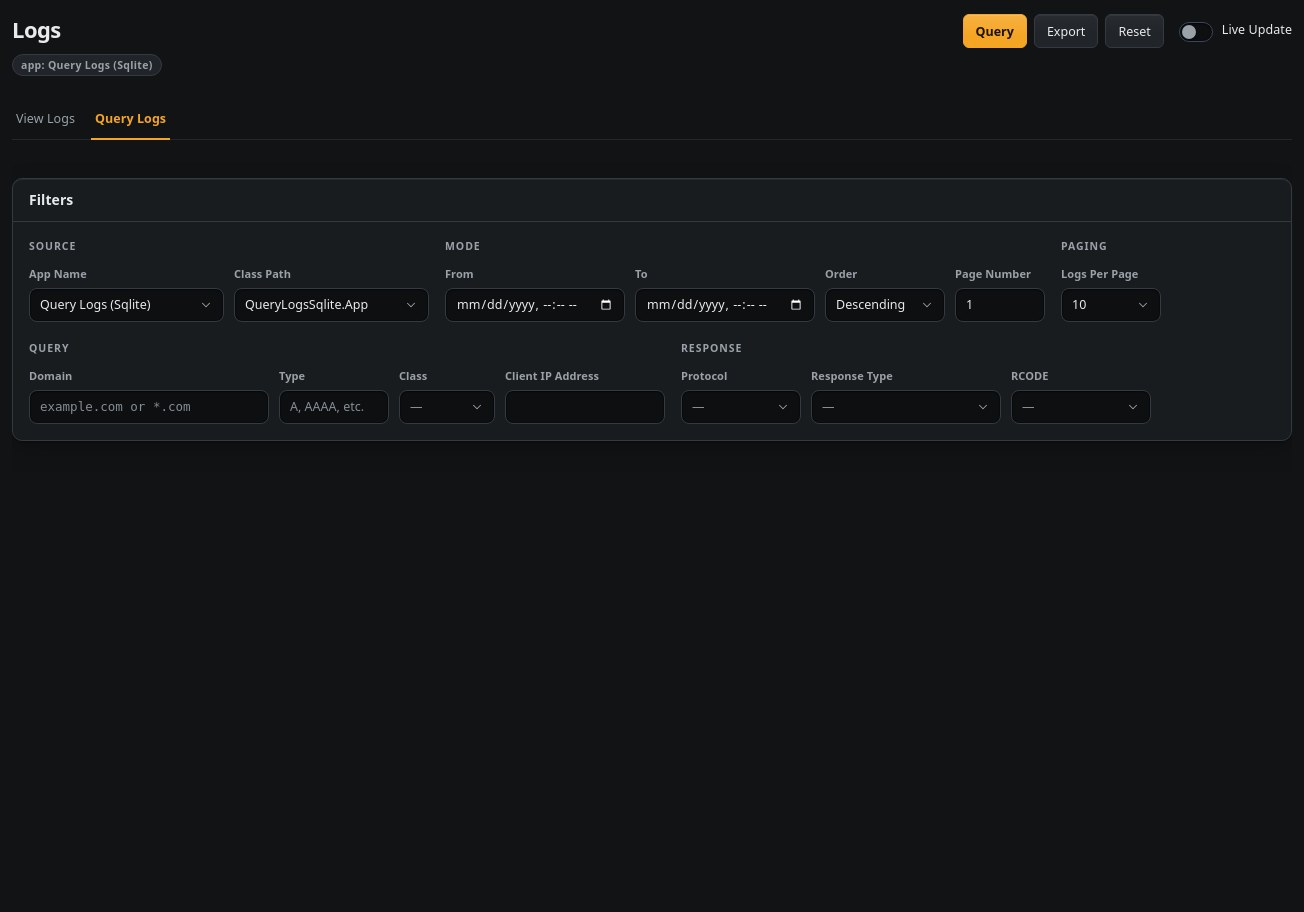
Scenario: Logs › Query Logs: the table › it draws one row per entry, with the RTT and the formatted timestamp
Expected: the dropdown named "App Name" is shown, left=29, top=288, right=224, bottom=322
Click the button "Query" at (995, 31), box left=962, top=14, right=1027, bottom=48
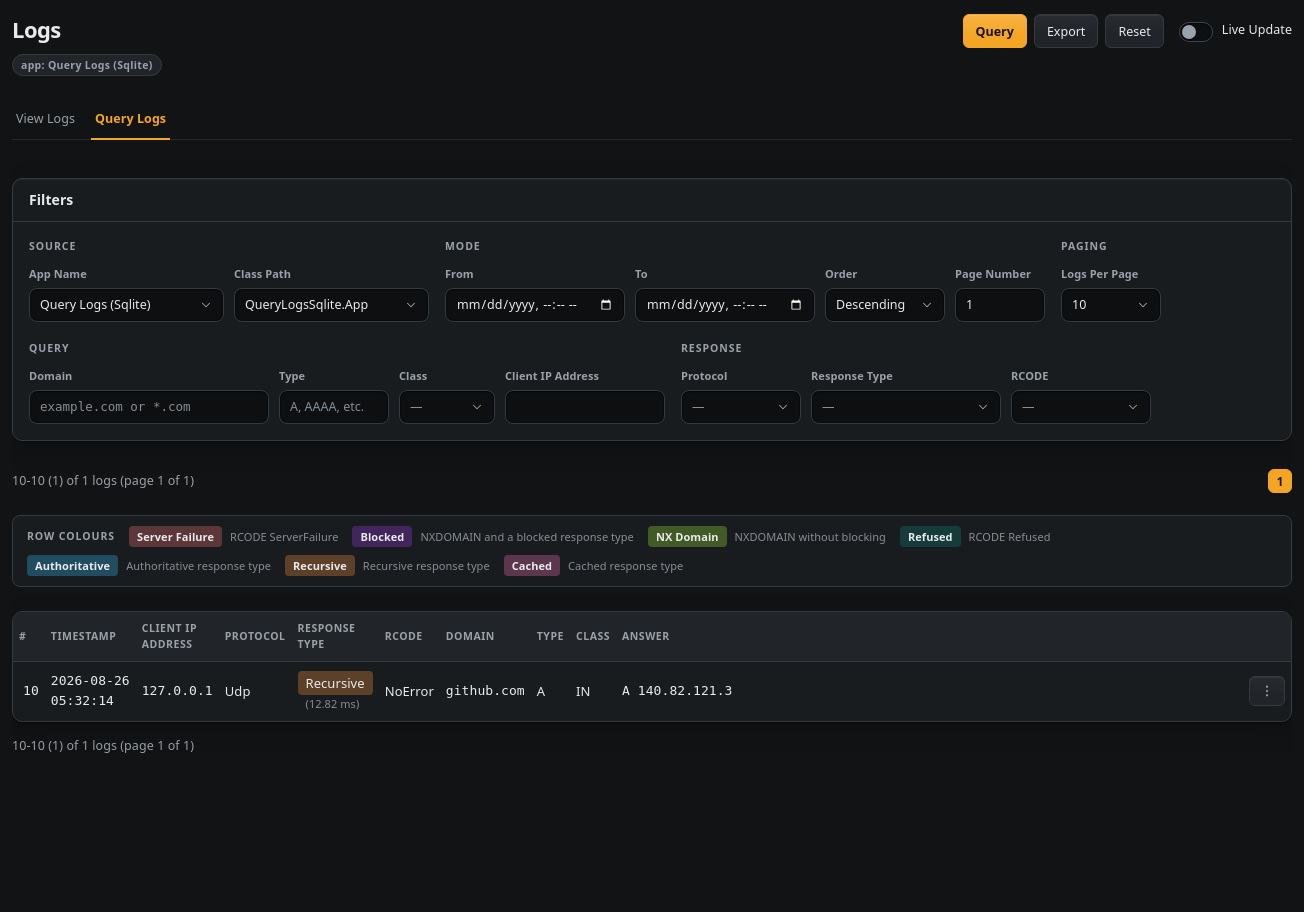
Result: the text "github.com" is shown at left=446, top=681, right=525, bottom=701
Result: the text "(12.82 ms)" is shown at left=306, top=696, right=359, bottom=711
Result: the text "A 140.82.121.3" is shown at left=622, top=683, right=732, bottom=698
